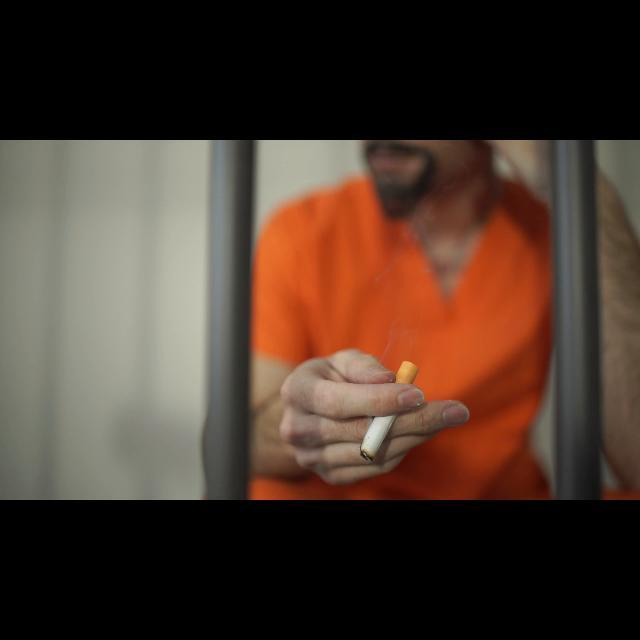rokok: (360, 348, 420, 468)
